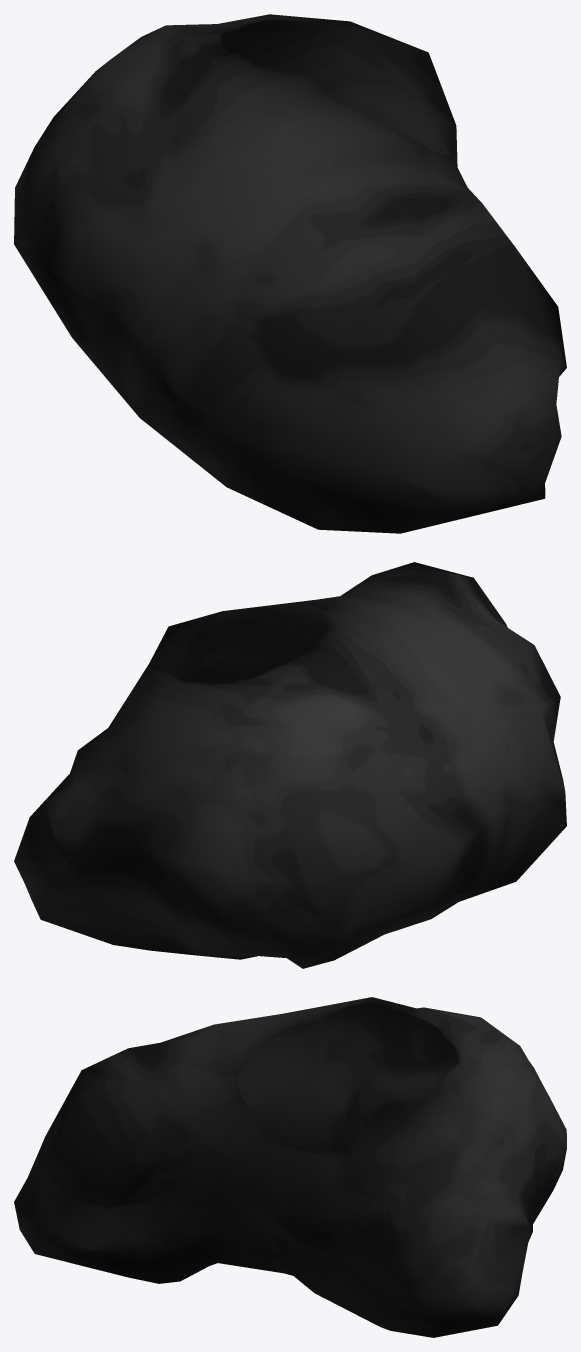
File: 01-Rock.fbx
3 views of the same model, one above another, from view 1: azimuth 30°, elevation 25°; view 2: azimuth 150°, elevation 25°; view 3: azimuth 270°, elevation 25° (orthographic). The views are drawn at different scales.
Visible parts, largest first — view 1: 01-CoralRock.050; view 2: 01-CoralRock.050; view 3: 01-CoralRock.050.
Boxes of the visible parts, x1,y1,x2,y2 form: 01-CoralRock.050: [14, 14, 566, 533]; 01-CoralRock.050: [14, 562, 566, 968]; 01-CoralRock.050: [14, 997, 566, 1337].
Size of the model in its own units: 287 by 229 by 407.
